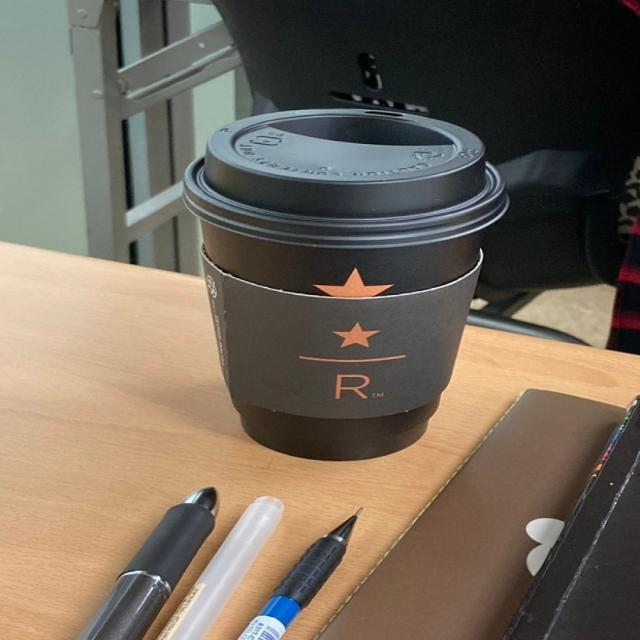cup: (135, 49, 518, 486)
